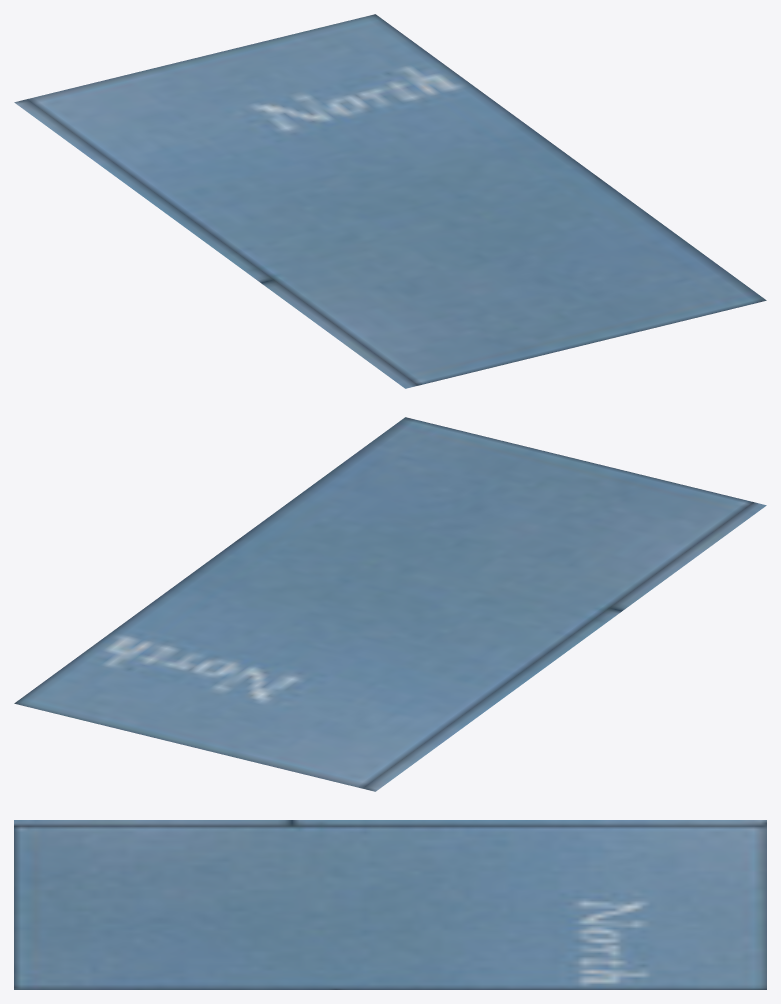
File: north-atlantic-sea.gltf
The picture shows the model from 3 angles, top to bottom: view 1: azimuth 30°, elevation 25°; view 2: azimuth 150°, elevation 25°; view 3: azimuth 270°, elevation 25°; orthographic projection. The views are drawn at different scales.
Parts seen in each view (by area): view 1: Plane; view 2: Plane; view 3: Plane.
Part boxes in pixels (x1,y1,x2,y2): Plane: [14, 14, 766, 388]; Plane: [14, 417, 766, 791]; Plane: [14, 820, 766, 989].
Size of the model in its own units: 0.2666 by 0 by 0.4997.
Materials: 1 (1 with a texture image).
